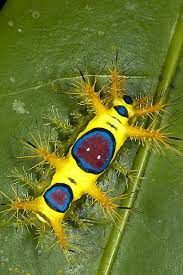Pest! (nettle_caterpillar): (4, 55, 175, 258)
